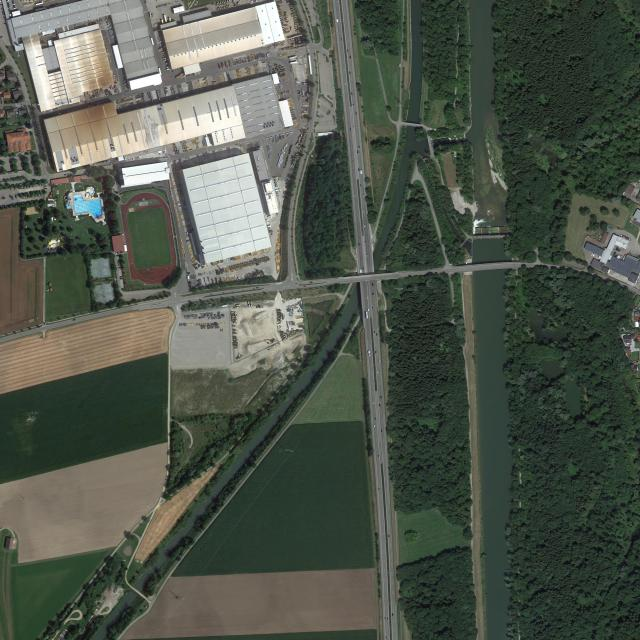large-vehicle: (235, 304, 241, 307), (149, 11, 152, 17), (366, 311, 368, 319), (250, 302, 253, 307), (233, 307, 240, 309), (231, 312, 237, 314), (232, 320, 238, 322), (248, 302, 250, 307), (232, 318, 237, 320), (232, 316, 237, 318), (232, 314, 237, 316), (166, 69, 170, 71)
small-vehicle: (607, 226, 613, 230), (336, 18, 339, 23), (617, 254, 620, 258), (591, 252, 594, 256), (46, 289, 49, 292), (7, 6, 10, 9), (7, 4, 10, 7), (6, 1, 9, 4), (618, 256, 621, 259), (22, 195, 24, 199), (116, 255, 120, 257), (1, 10, 5, 12), (593, 253, 595, 257), (388, 534, 390, 538), (358, 147, 360, 151), (360, 269, 362, 273), (360, 170, 362, 174), (26, 192, 28, 195), (39, 190, 41, 193), (3, 205, 5, 208), (42, 190, 44, 193), (119, 267, 122, 269), (118, 264, 121, 266), (118, 262, 121, 264), (12, 3, 15, 5), (3, 16, 6, 18), (8, 8, 10, 11), (7, 3, 9, 6), (12, 2, 15, 4), (12, 0, 15, 2), (2, 12, 5, 14), (1, 8, 4, 10), (11, 197, 13, 200), (17, 73, 19, 76), (0, 36, 3, 38), (372, 402, 374, 405), (380, 396, 382, 399), (377, 371, 379, 374), (378, 359, 380, 362), (368, 351, 370, 354), (375, 351, 377, 354), (372, 307, 374, 310), (372, 283, 374, 286), (378, 456, 380, 459), (386, 637, 388, 640), (387, 618, 389, 621), (351, 92, 353, 95), (345, 83, 347, 86), (349, 71, 351, 74), (344, 69, 346, 72), (347, 49, 349, 52), (354, 126, 356, 129), (350, 128, 352, 131), (366, 254, 368, 257), (358, 243, 360, 246), (364, 225, 366, 228), (362, 209, 364, 212), (354, 195, 356, 198), (360, 184, 362, 187), (358, 168, 360, 171), (45, 185, 47, 187), (11, 204, 13, 206), (10, 204, 12, 206), (7, 205, 9, 207), (120, 276, 122, 278), (13, 6, 15, 8), (2, 14, 6, 15), (3, 23, 7, 24), (376, 333, 378, 335), (369, 354, 370, 358), (304, 286, 306, 288), (379, 404, 381, 406), (381, 430, 383, 432), (634, 255, 636, 257), (630, 250, 632, 252), (379, 488, 380, 492), (256, 287, 258, 289), (337, 1, 339, 3), (634, 339, 635, 342), (41, 190, 42, 193), (44, 188, 47, 189), (24, 195, 25, 198), (13, 203, 14, 206), (9, 204, 10, 207), (115, 182, 116, 185), (114, 176, 115, 179), (64, 174, 67, 175), (118, 266, 121, 267), (2, 205, 3, 208), (13, 8, 16, 9), (36, 184, 37, 187), (41, 183, 42, 186), (368, 309, 369, 312), (367, 297, 368, 300), (373, 293, 374, 296), (374, 425, 375, 428), (392, 613, 393, 616), (295, 283, 298, 284), (341, 38, 342, 41), (310, 282, 313, 283), (356, 112, 357, 115), (363, 267, 364, 270), (365, 241, 366, 244), (363, 194, 364, 197), (42, 193, 43, 195), (39, 194, 40, 196), (38, 191, 39, 193), (6, 205, 7, 207), (5, 205, 6, 207), (13, 5, 15, 6), (13, 197, 14, 199), (22, 186, 23, 188), (24, 186, 25, 188), (25, 186, 26, 188), (29, 185, 30, 187), (31, 185, 32, 187), (34, 184, 35, 186), (35, 184, 36, 186), (40, 184, 41, 186), (3, 68, 4, 70), (374, 331, 375, 333), (378, 307, 379, 309), (385, 618, 386, 620), (353, 103, 354, 105), (350, 56, 351, 58), (357, 151, 358, 153)
